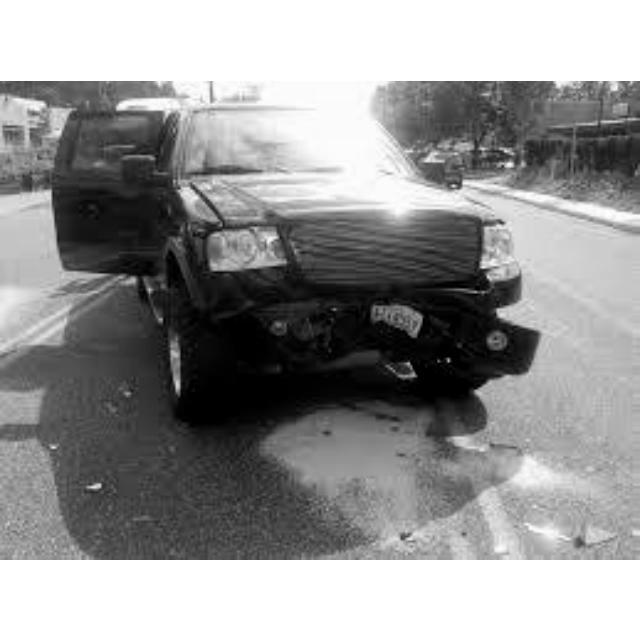front-bumper-dent: (269, 306, 469, 377)
